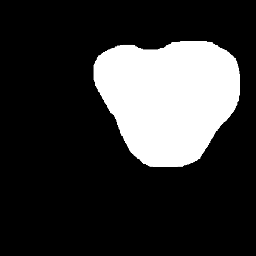mass: (109, 50, 221, 175)
